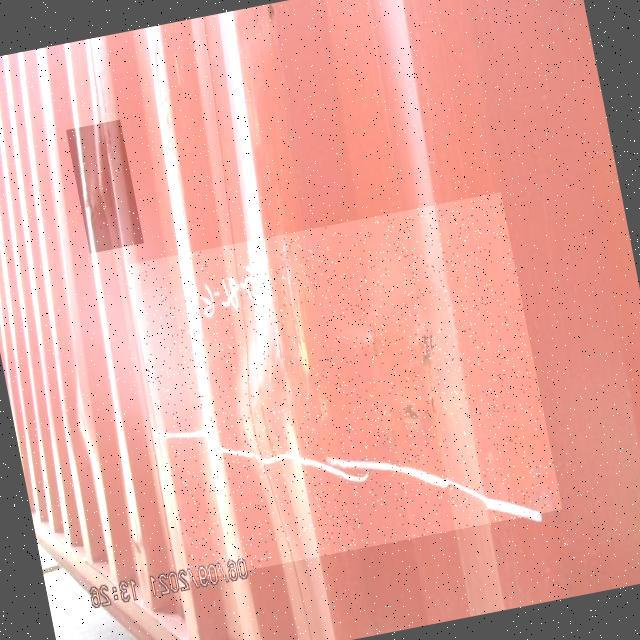Dent: (126, 192, 563, 582)
Minor-Dent: (67, 120, 145, 256)
